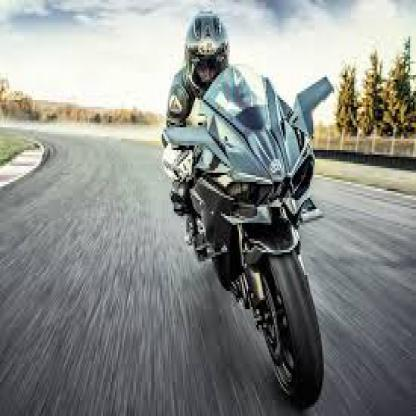Motorcycle: (146, 80, 336, 405)
